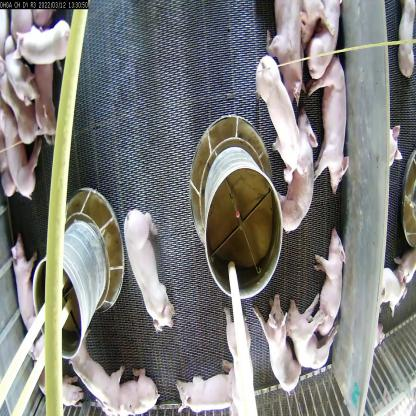Pig: (119, 200, 178, 338), (254, 50, 314, 184), (307, 52, 349, 198), (64, 323, 127, 414), (276, 110, 319, 240), (252, 286, 301, 396), (6, 230, 50, 352), (282, 288, 342, 375), (264, 0, 308, 105), (312, 224, 350, 338), (92, 356, 160, 416), (9, 16, 80, 70), (174, 365, 238, 416)
